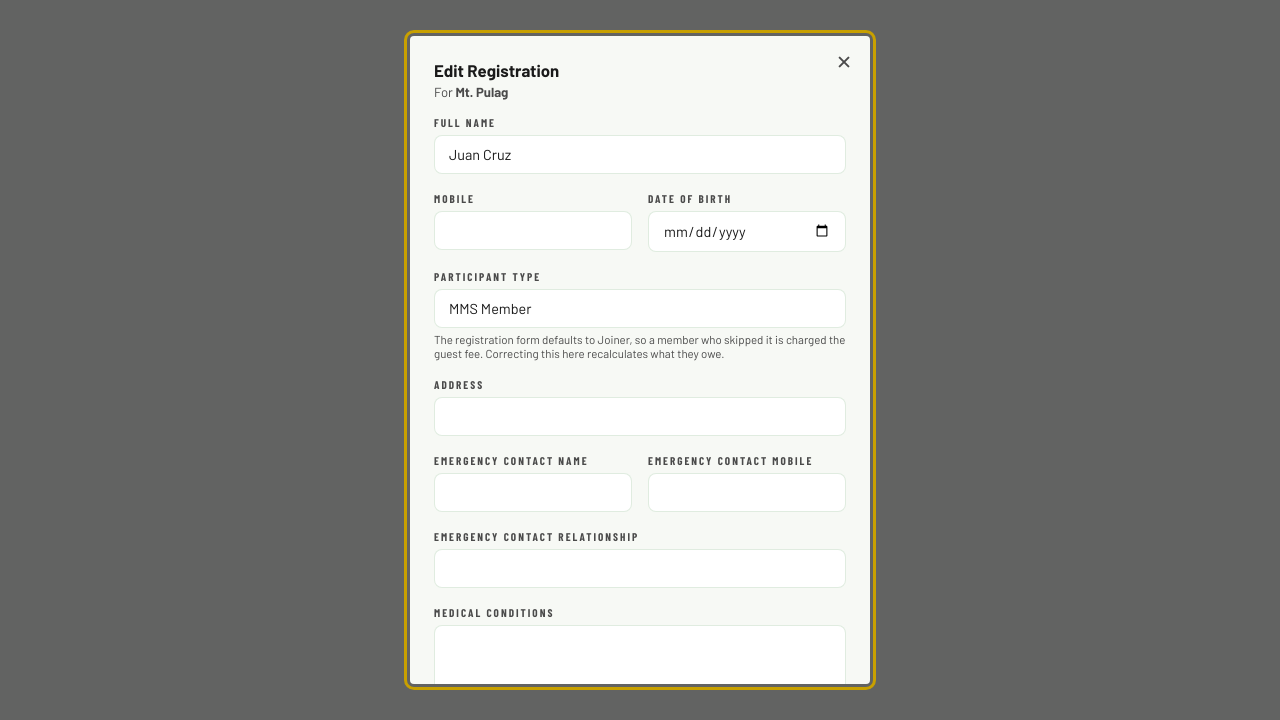
Test: EditRegistrationModal — participant type › warns in the other direction too
Select "Joiner (non-member)" in the dropdown: (640, 308) [434, 289, 846, 328]
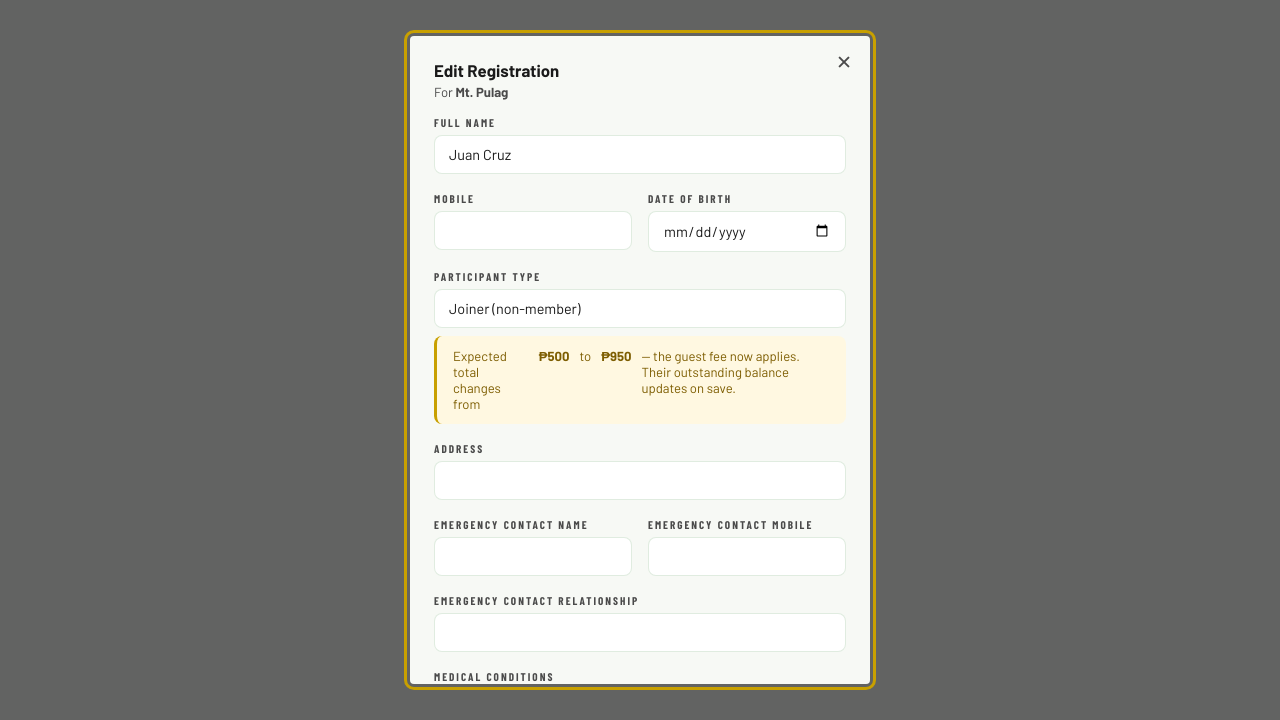
Expected: the text "guest fee now applies" is shown, [642, 348, 800, 364]
